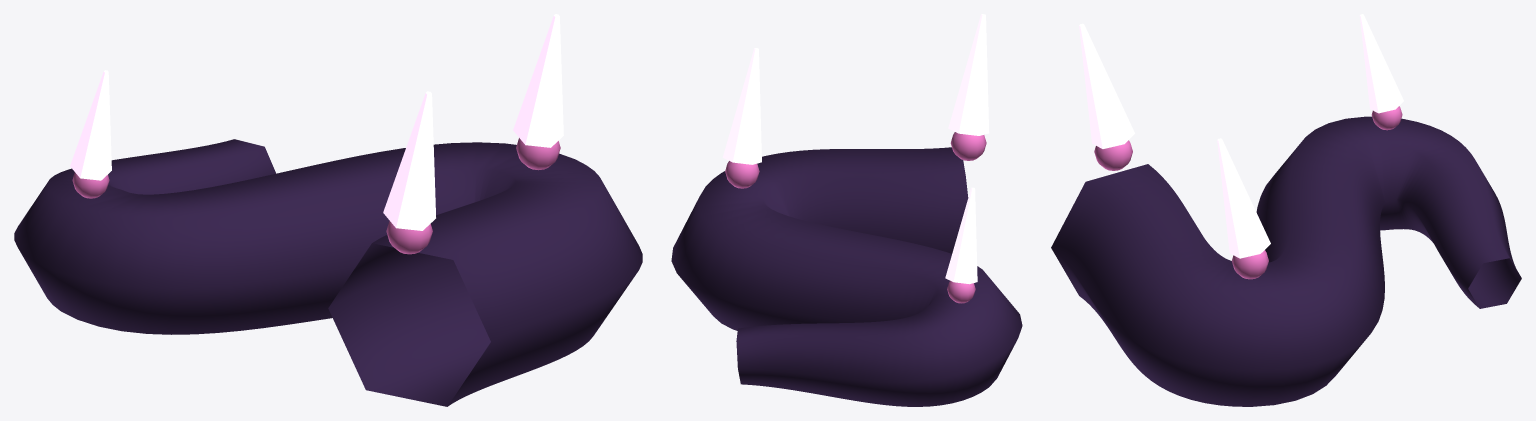
File: SM_Keeper_Apep_Body_F19.fbx
3 renders of one model, left to right at view 1: azimuth 30°, elevation 25°; view 2: azimuth 150°, elevation 25°; view 3: azimuth 270°, elevation 25°, orthographic. The views are drawn at different scales.
Parts seen in each view (by area): view 1: SM_Keeper_Apep_Body_F19; view 2: SM_Keeper_Apep_Body_F19; view 3: SM_Keeper_Apep_Body_F19.
Boxes of the visible parts, x1,y1,x2,y2 form: SM_Keeper_Apep_Body_F19: (14, 14, 642, 406); SM_Keeper_Apep_Body_F19: (671, 14, 1022, 406); SM_Keeper_Apep_Body_F19: (1051, 14, 1521, 406).
Size of the model in its own units: 6.68 by 4.36 by 6.55.
